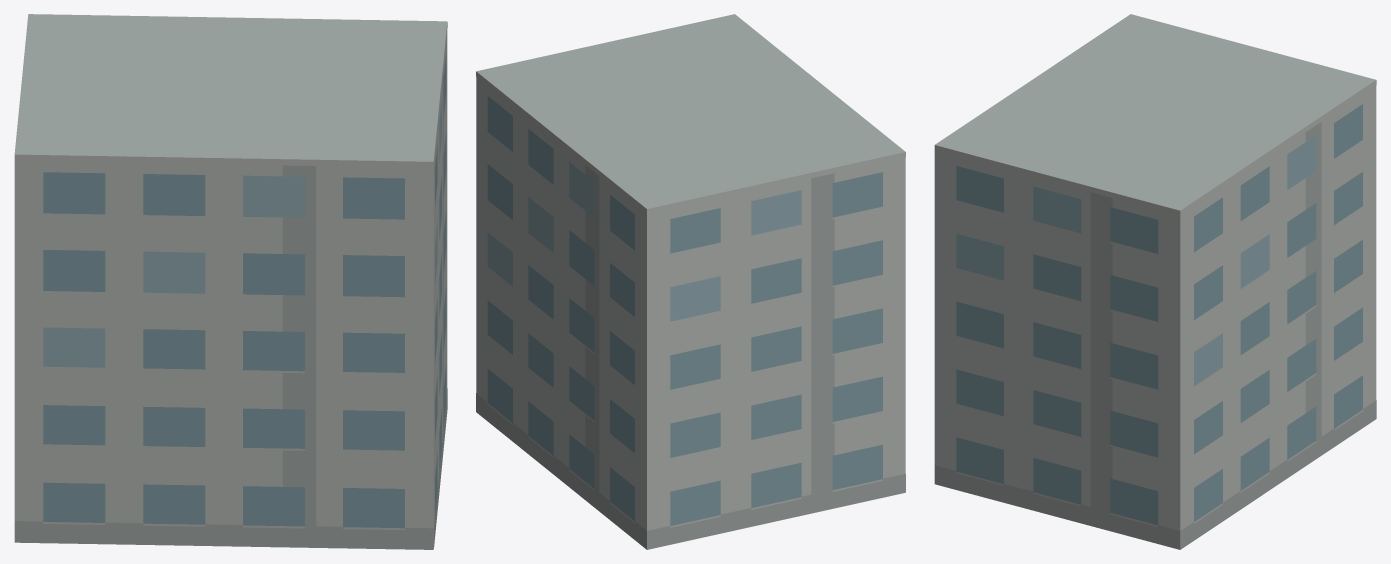
File: residential-ea01a376-8526-4a47-9c36-fbcf619edbe3.glb
3 renders of one model, left to right at view 1: azimuth 30°, elevation 25°; view 2: azimuth 150°, elevation 25°; view 3: azimuth 270°, elevation 25°, orthographic. The views are drawn at different scales.
Parts seen in each view (by area): view 1: residential-ea01a376-8526-4a47-9c36-fbcf619edbe3.tmp; view 2: residential-ea01a376-8526-4a47-9c36-fbcf619edbe3.tmp; view 3: residential-ea01a376-8526-4a47-9c36-fbcf619edbe3.tmp.
Part boxes in pixels (x1=…): residential-ea01a376-8526-4a47-9c36-fbcf619edbe3.tmp: x1=14, y1=14, x2=447, y2=549; residential-ea01a376-8526-4a47-9c36-fbcf619edbe3.tmp: x1=476, y1=14, x2=905, y2=549; residential-ea01a376-8526-4a47-9c36-fbcf619edbe3.tmp: x1=934, y1=14, x2=1376, y2=549.
Bounding box in the file's own units: 18.97 × 15.25 × 18.01.
